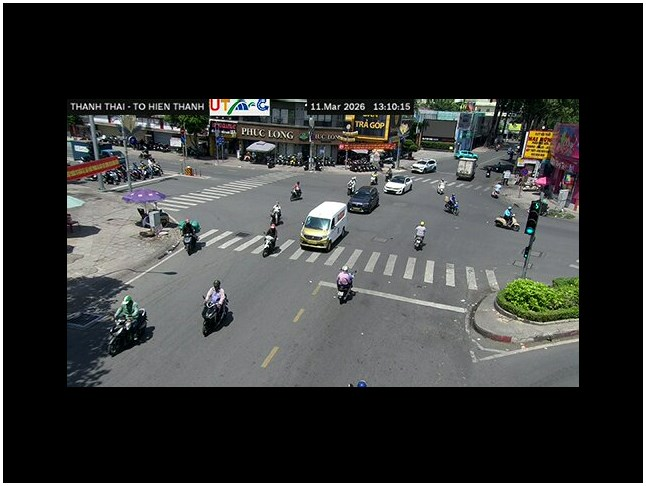car: (299, 200, 350, 251), (347, 185, 379, 214), (384, 173, 413, 195), (412, 159, 436, 173), (490, 183, 503, 199)
motorbike: (105, 292, 154, 356), (200, 294, 233, 337), (182, 222, 205, 256), (413, 220, 427, 251), (443, 194, 459, 214), (290, 187, 304, 201)
